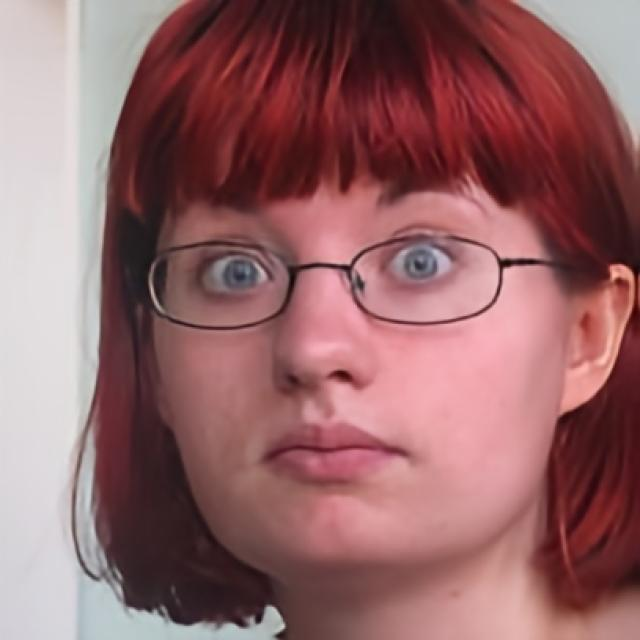fear: (149, 83, 566, 582)
